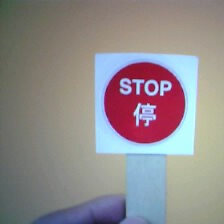stop: (92, 52, 194, 152)
